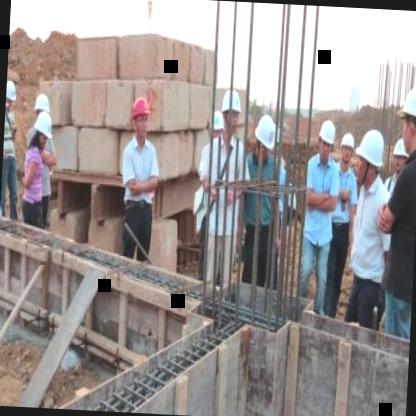helmet: (356, 127, 386, 186), (396, 82, 416, 155), (251, 110, 278, 160), (218, 88, 244, 138), (128, 93, 151, 140), (313, 118, 337, 163), (31, 110, 53, 154), (390, 131, 412, 175), (338, 130, 358, 166), (208, 108, 224, 144), (34, 94, 50, 128), (5, 79, 16, 111)
